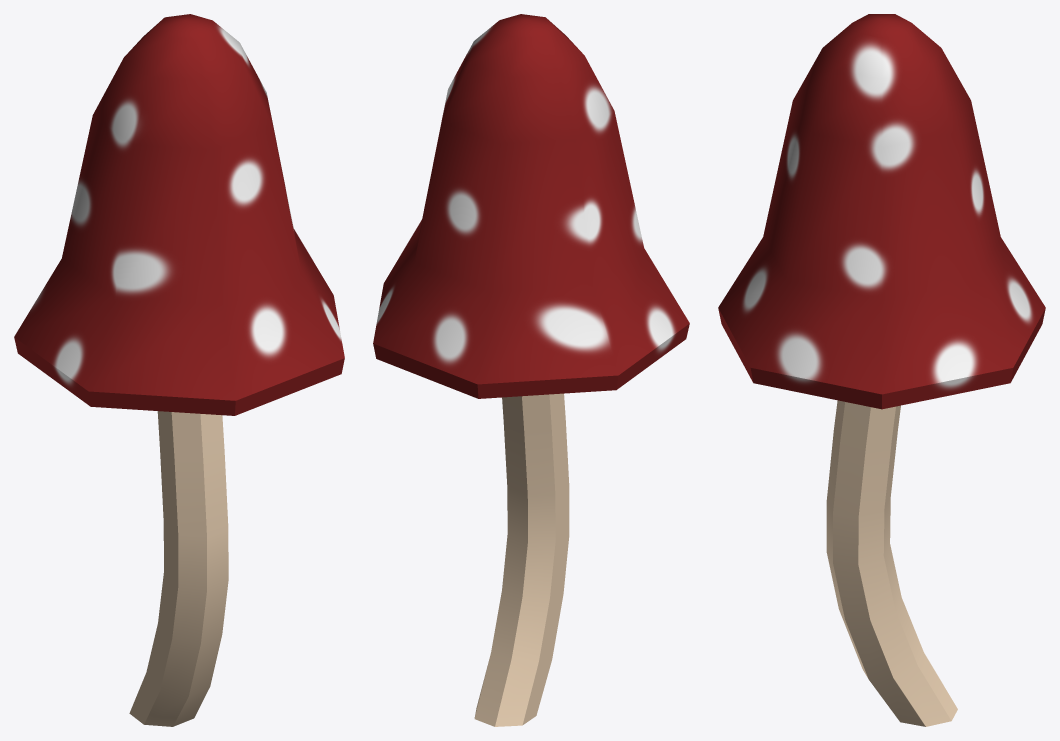
The model's file is longMushroom.fbx.
3 views of the same model, side by side, from view 1: azimuth 30°, elevation 25°; view 2: azimuth 150°, elevation 25°; view 3: azimuth 270°, elevation 25° (orthographic). The views are drawn at different scales.
Visible parts, largest first — view 1: pCylinder3; view 2: pCylinder3; view 3: pCylinder3.
Part boxes in pixels (x1,y1,x2,y2): pCylinder3: [14, 14, 344, 726]; pCylinder3: [373, 14, 689, 726]; pCylinder3: [718, 14, 1045, 726].
Bounding box in the file's own units: 2.1 × 5.03 × 2.15.
Materials: 1 (1 with a texture image).
